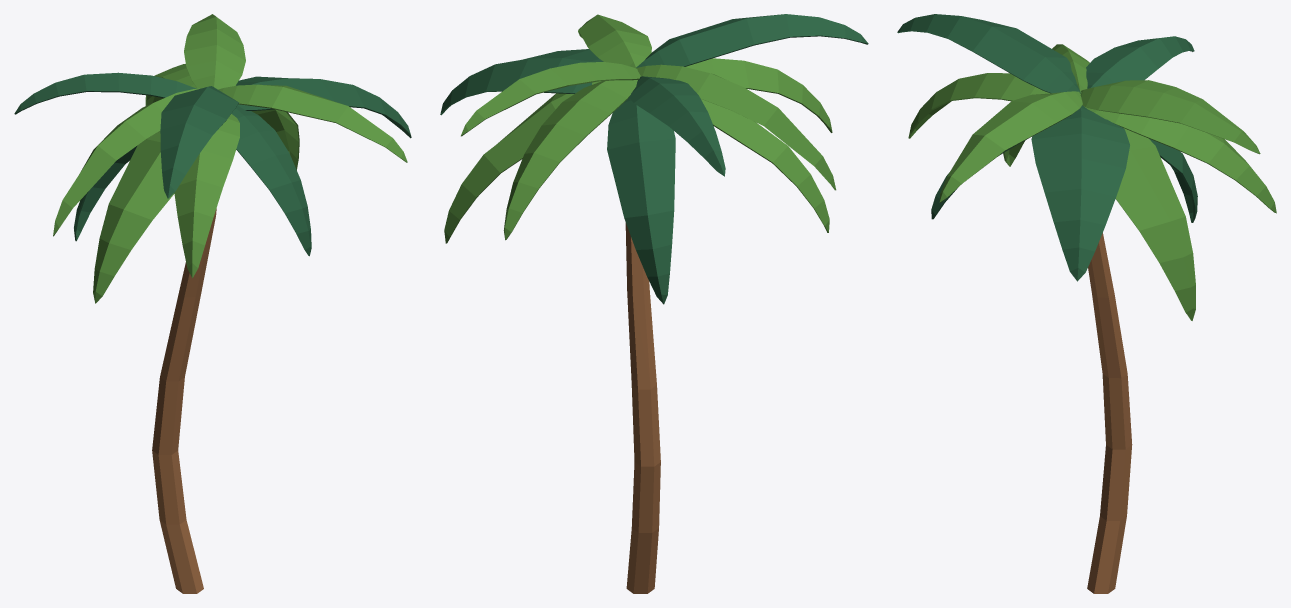
Rendered from PalmTree_3.glb.
3 views of the same model, side by side, from view 1: azimuth 30°, elevation 25°; view 2: azimuth 150°, elevation 25°; view 3: azimuth 270°, elevation 25° (orthographic).
Parts seen in each view (by area): view 1: PalmTree_3_Cylinder.037; view 2: PalmTree_3_Cylinder.037; view 3: PalmTree_3_Cylinder.037.
Boxes of the visible parts, bbox=[...] form: PalmTree_3_Cylinder.037: bbox=[14, 14, 411, 593]; PalmTree_3_Cylinder.037: bbox=[440, 14, 868, 593]; PalmTree_3_Cylinder.037: bbox=[897, 14, 1276, 593].
Size of the model in its own units: 2.88 by 3.93 by 2.51.
